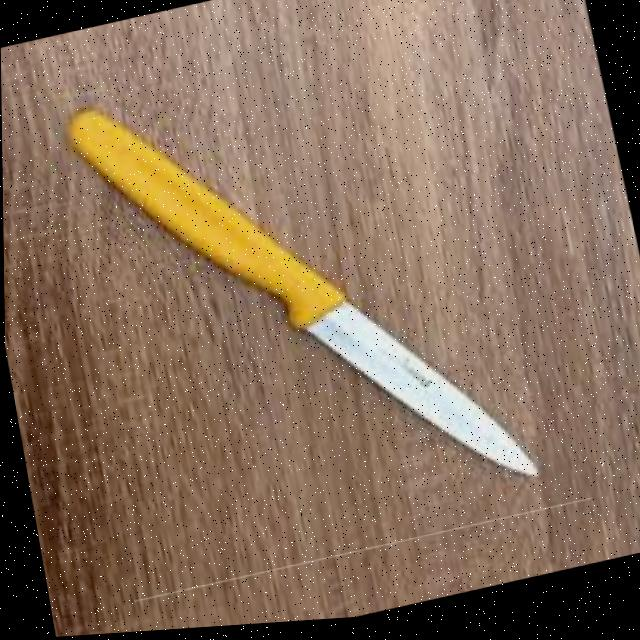knife: (58, 23, 546, 574)
